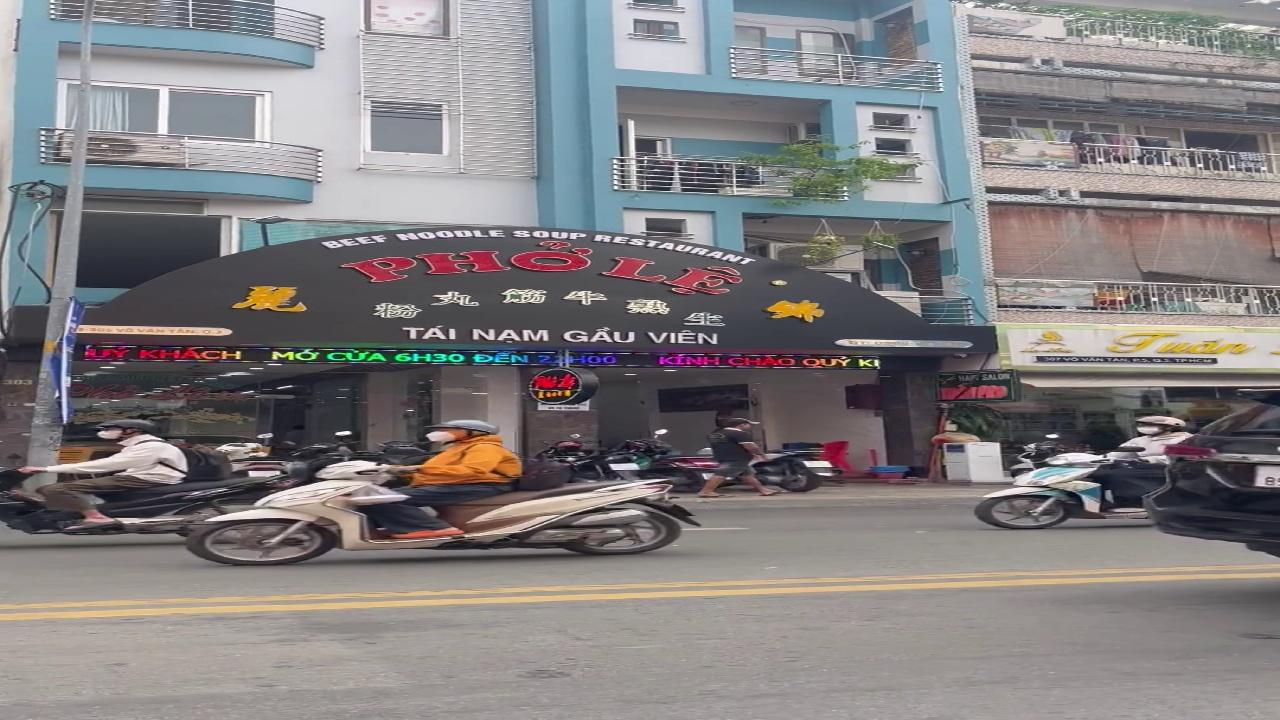Motor: (186, 461, 696, 564), (0, 470, 285, 534), (974, 447, 1162, 528), (566, 431, 671, 482), (752, 453, 838, 492), (215, 434, 288, 477), (1009, 434, 1066, 477), (537, 434, 592, 463)
